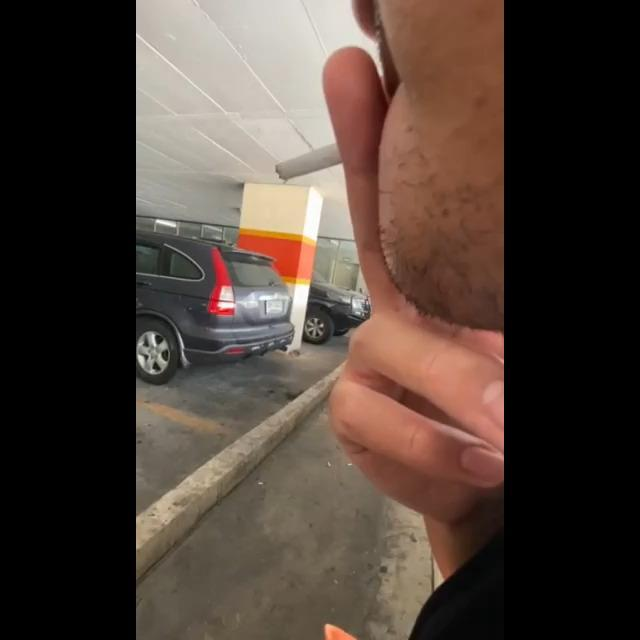rokok: (264, 142, 370, 186)
